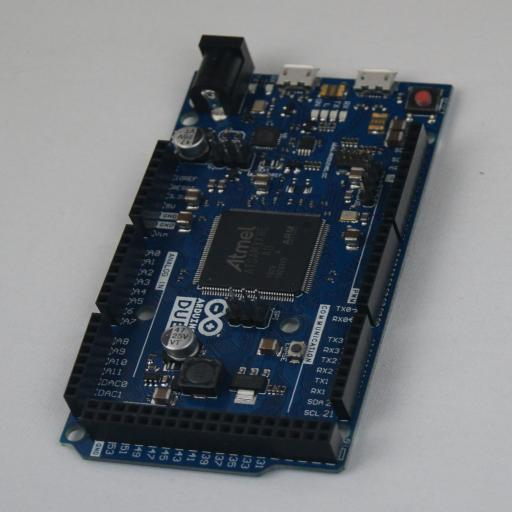Arduino Due: (60, 35, 452, 477)
